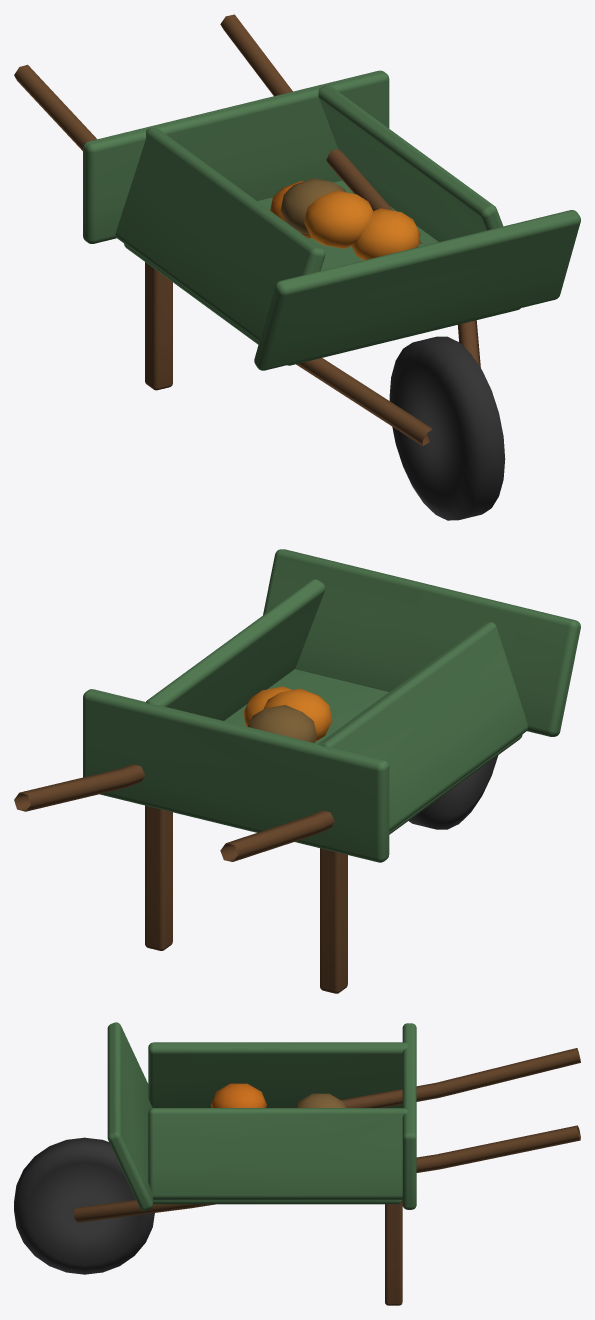
Rendered from wheelbarrow.glb.
The picture shows the model from 3 angles, top to bottom: view 1: azimuth 30°, elevation 25°; view 2: azimuth 150°, elevation 25°; view 3: azimuth 270°, elevation 25°; orthographic projection. The views are drawn at different scales.
Parts seen in each view (by area): view 1: wheelbarrow_main; view 2: wheelbarrow_main; view 3: wheelbarrow_main.
Boxes of the visible parts, bbox=[...] form: wheelbarrow_main: bbox=[14, 14, 580, 520]; wheelbarrow_main: bbox=[14, 549, 580, 993]; wheelbarrow_main: bbox=[14, 1022, 580, 1305].
Bounding box in the file's own units: 0.76 × 0.6068 × 1.61.
